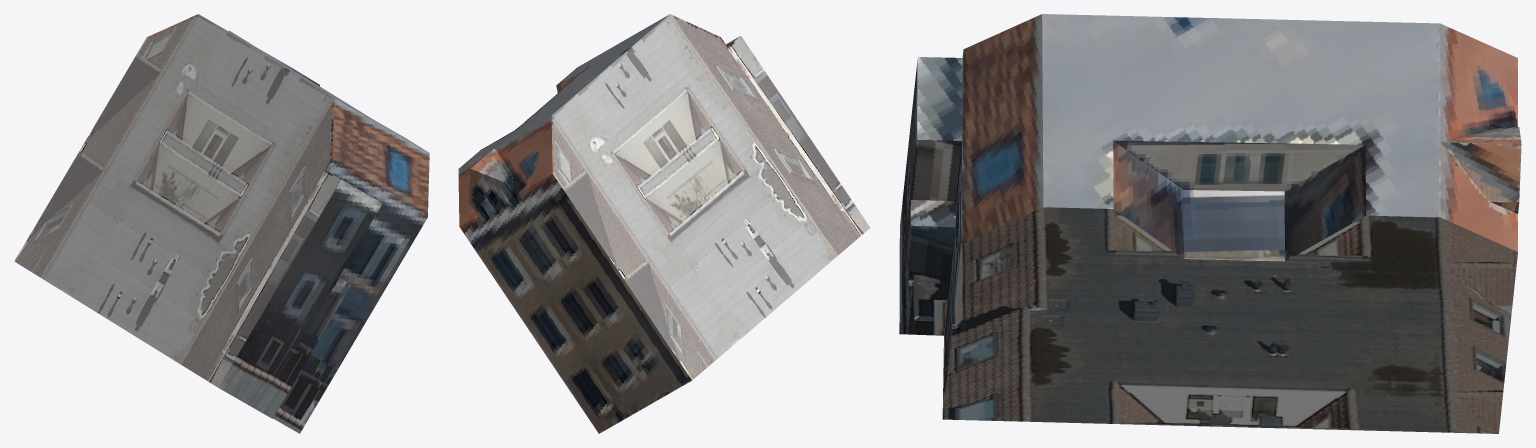
The picture shows the model from 3 angles, left to right: view 1: azimuth 30°, elevation 25°; view 2: azimuth 150°, elevation 25°; view 3: azimuth 270°, elevation 25°; orthographic projection. The views are drawn at different scales.
Parts seen in each view (by area): view 1: BAG_0599100000670797 (×4); view 2: BAG_0599100000670797 (×2); view 3: BAG_0599100000670797 (×4).
Part boxes in pixels (<box>): BAG_0599100000670797 (×4): <box>14,14,429,433</box>; BAG_0599100000670797 (×2): <box>458,14,870,433</box>; BAG_0599100000670797 (×4): <box>899,14,1521,433</box>.
Size of the model in its own units: 12.93 by 14.3 by 16.94.
1 material, 1 textured.
